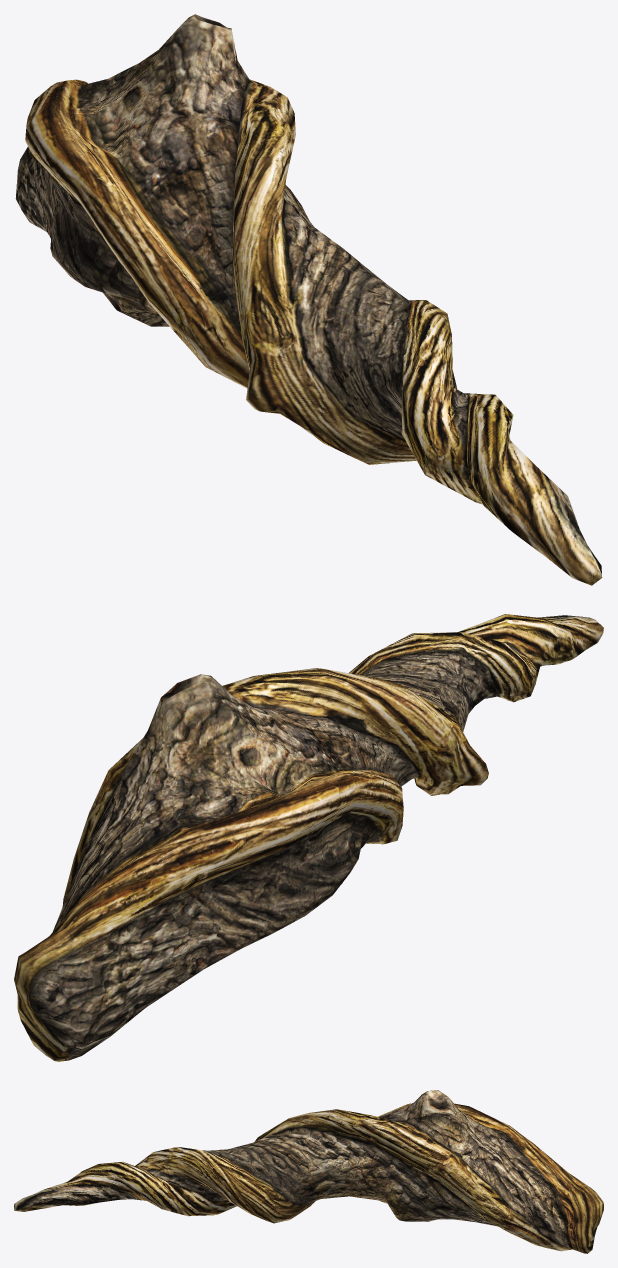
File: LeftController.FBX
3 renders of one model, top to bottom at view 1: azimuth 30°, elevation 25°; view 2: azimuth 150°, elevation 25°; view 3: azimuth 270°, elevation 25°, orthographic. The views are drawn at different scales.
Parts seen in each view (by area): view 1: ZBrush_defualt_group001; view 2: ZBrush_defualt_group001; view 3: ZBrush_defualt_group001.
Boxes of the visible parts, bbox=[...] form: ZBrush_defualt_group001: bbox=[15, 14, 602, 585]; ZBrush_defualt_group001: bbox=[14, 614, 603, 1061]; ZBrush_defualt_group001: bbox=[14, 1090, 603, 1253].
Size of the model in its own units: 7.85 by 9.87 by 33.2.
